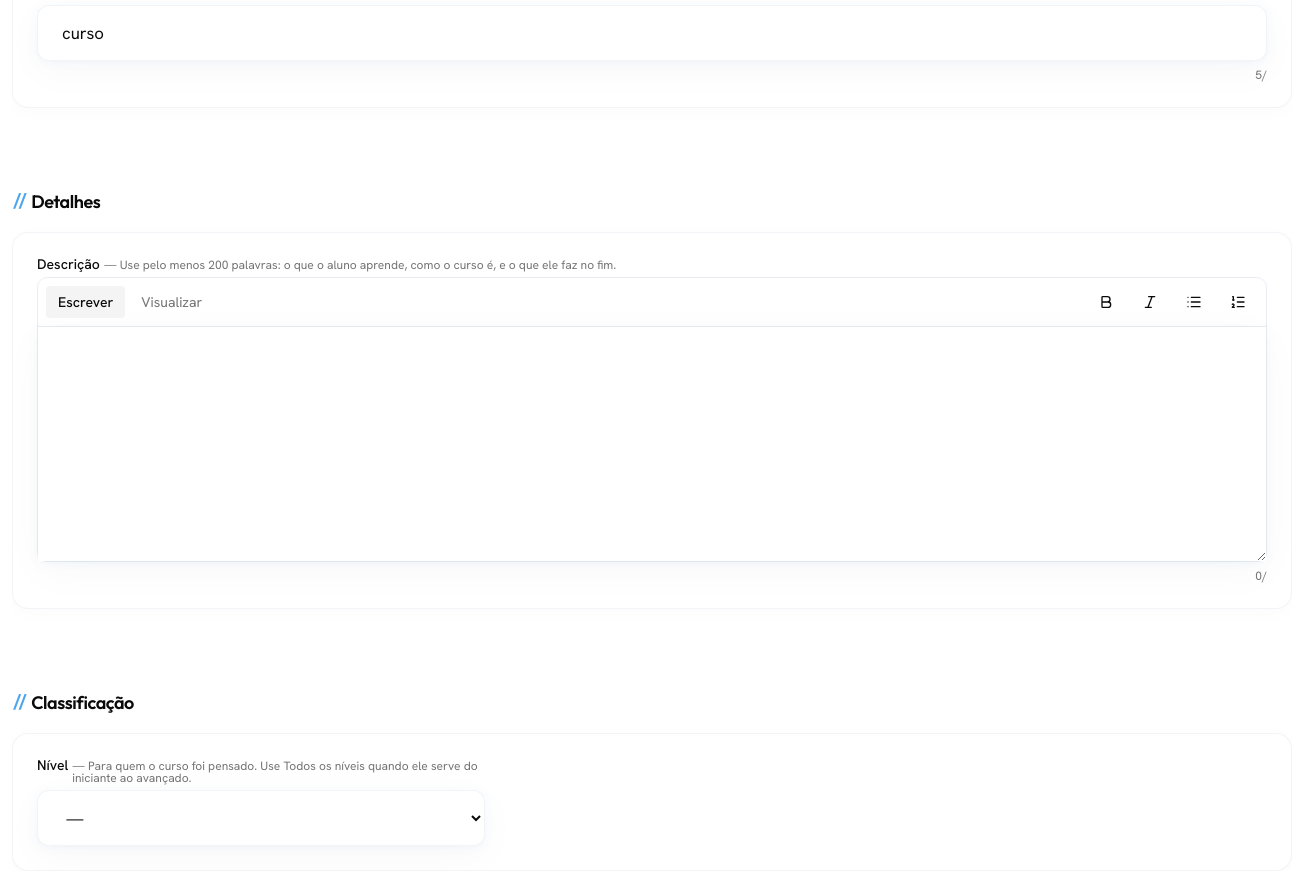
Scenario: botões da descrição › espaço selecionado junto fica fora da marca
(page scrolled)
Type "Aprenda PROCX hoje" into the text box labelled "Descrição" at (652, 444), box left=38, top=327, right=1266, bottom=560
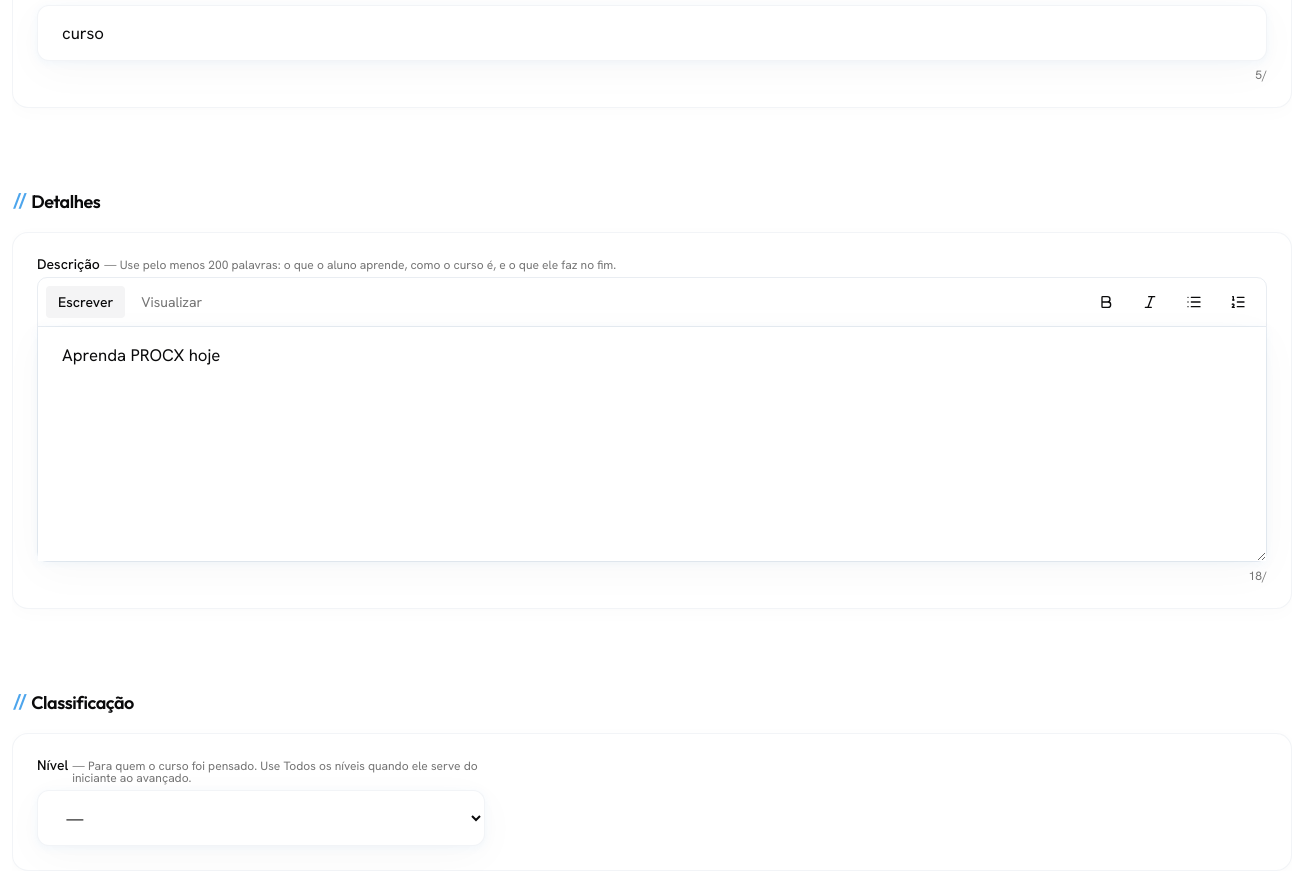
Click the button named "Itálico" at (1150, 302), box left=1130, top=282, right=1170, bottom=322
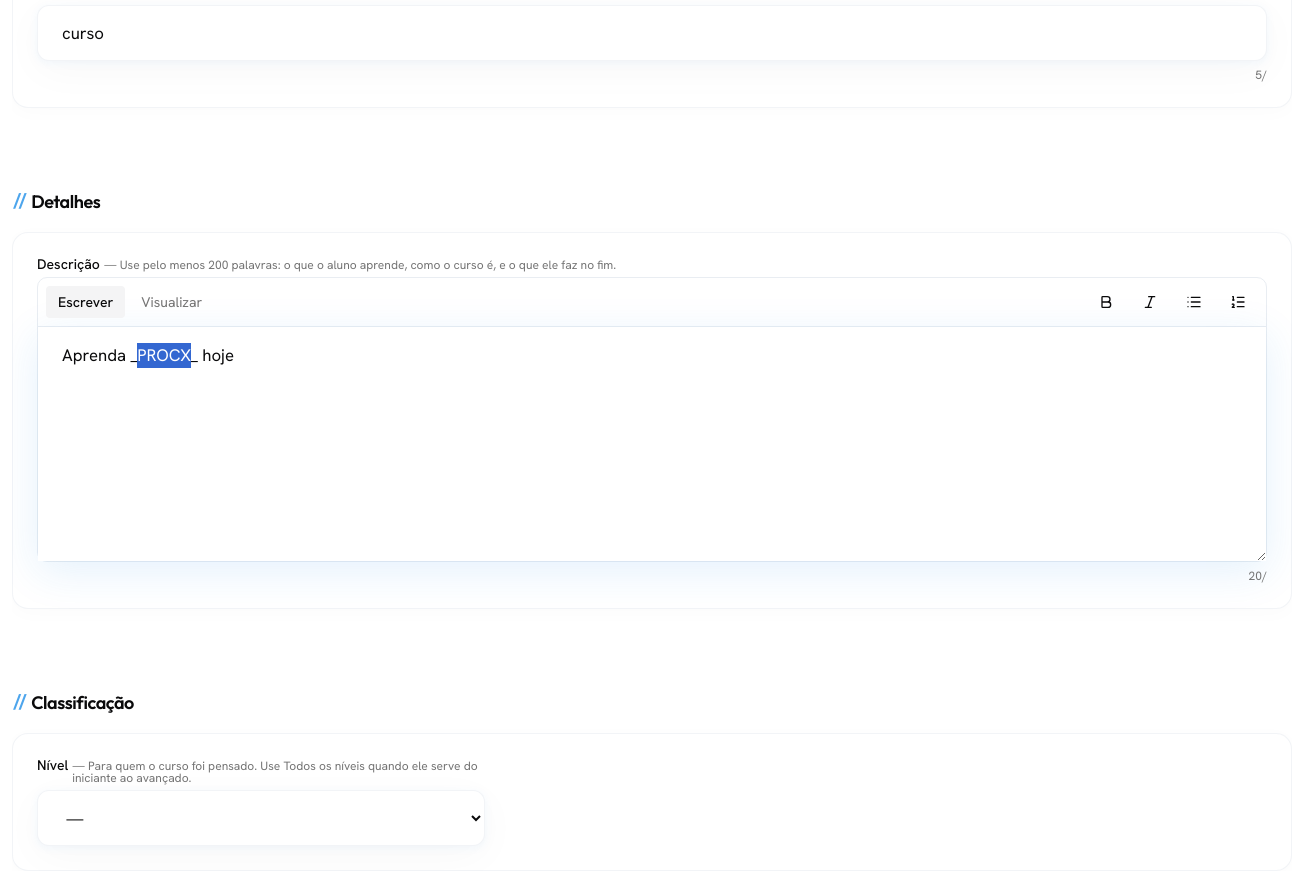
Check: the text box labelled "Descrição" holds "Aprenda _PROCX_ hoje", box left=38, top=327, right=1266, bottom=560
